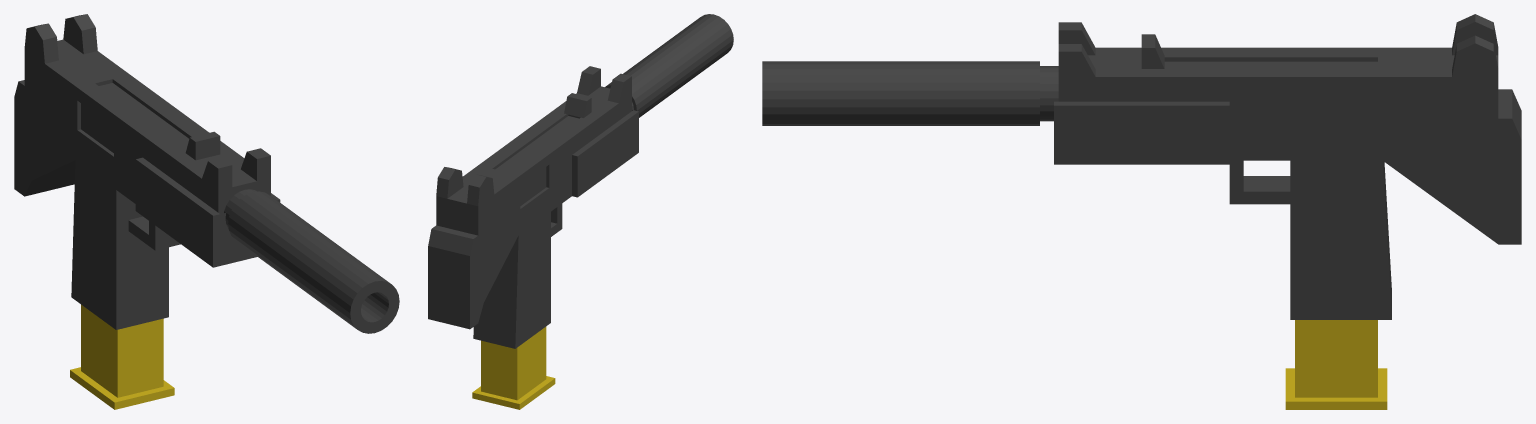
The model's file is uzigoldlongsilencer.glb.
3 views of the same model, side by side, from view 1: azimuth 30°, elevation 25°; view 2: azimuth 150°, elevation 25°; view 3: azimuth 270°, elevation 25° (orthographic). The views are drawn at different scales.
Visible parts, largest first — view 1: Mesh1 Group2 Group1 Model, Mesh5 Group6 Group1 Model, Mesh2 Group3 Group1 Model, Mesh3 Group4 Group1 Model, Mesh4 Group5 Group1 Model; view 2: Mesh1 Group2 Group1 Model, Mesh3 Group4 Group1 Model, Mesh5 Group6 Group1 Model, Mesh2 Group3 Group1 Model, Mesh4 Group5 Group1 Model; view 3: Mesh1 Group2 Group1 Model, Mesh5 Group6 Group1 Model, Mesh3 Group4 Group1 Model, Mesh2 Group3 Group1 Model, Mesh4 Group5 Group1 Model.
Boxes of the visible parts, box(x1,y1,x2,y2) form: Mesh1 Group2 Group1 Model: box(24, 14, 280, 329); Mesh5 Group6 Group1 Model: box(228, 191, 399, 333); Mesh2 Group3 Group1 Model: box(70, 304, 174, 409); Mesh3 Group4 Group1 Model: box(14, 80, 75, 196); Mesh4 Group5 Group1 Model: box(185, 131, 220, 160); Mesh1 Group2 Group1 Model: box(436, 66, 638, 348); Mesh3 Group4 Group1 Model: box(428, 221, 518, 329); Mesh5 Group6 Group1 Model: box(605, 14, 733, 117); Mesh2 Group3 Group1 Model: box(472, 326, 555, 409); Mesh4 Group5 Group1 Model: box(564, 93, 591, 118); Mesh1 Group2 Group1 Model: box(1040, 14, 1498, 319); Mesh5 Group6 Group1 Model: box(762, 61, 1039, 125); Mesh3 Group4 Group1 Model: box(1382, 89, 1521, 244); Mesh2 Group3 Group1 Model: box(1285, 320, 1387, 409); Mesh4 Group5 Group1 Model: box(1141, 34, 1164, 68).
Bounding box in the file's own units: 0.0114 × 0.0522 × 0.0985.
